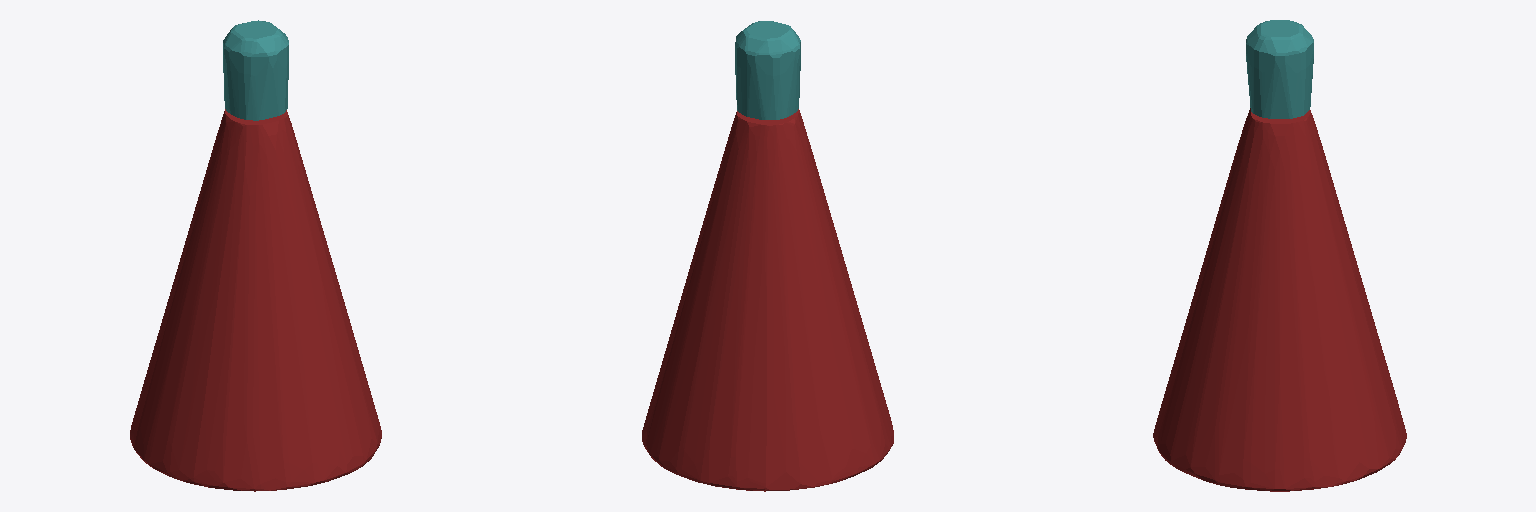
The robot description file, URDF, robot "root":
<robot name="root">
  <link name="bottle_body">
    <inertial>
      <origin xyz="0 0 0" rpy="0 0 0"/>
    </inertial>
    <mass value="1.00E-02"/>
    <visual>
      <origin xyz="0 0 0" rpy="0 0 0"/>
      <geometry>
        <mesh filename="core-bottle-2c5fd15998b6f8b996716aabcb2fff20-coacd_convex_piece_1.obj" scale="1.0000E-01 1.0000E-01 1.0000E-01"/>
      </geometry>
      <material name="">
        <color rgba="6.00E-01 2.00E-01 2.00E-01 1"/>
      </material>
    </visual>
    <collision>
      <origin xyz="0 0 0" rpy="0 0 0"/>
      <geometry>
        <mesh filename="core-bottle-2c5fd15998b6f8b996716aabcb2fff20-coacd_convex_piece_1.obj" scale="1.0000E-01 1.0000E-01 1.0000E-01"/>
      </geometry>
    </collision>
  </link>
  <link name="bottle_cap">
    <origin xyz="0 0 0.002" rpy="0 0 0"/>
    <mass value="1.00E-02"/>
    <visual>
      <origin xyz="0 0 0.002" rpy="0 0 0"/>
      <geometry>
        <mesh filename="core-bottle-2c5fd15998b6f8b996716aabcb2fff20-coacd_convex_piece_0.obj" scale="1.0000E-01 1.0000E-01 1.0000E-01"/>
      </geometry>
      <material name="">
        <color rgba="3.00E-01 6.00E-01 6.00E-01 1"/>
      </material>
    </visual>
    <collision>
      <origin xyz="0 0 0.002" rpy="0 0 0"/>
      <geometry>
        <mesh filename="core-bottle-2c5fd15998b6f8b996716aabcb2fff20-coacd_convex_piece_0.obj" scale="1.0000E-01 1.0000E-01 1.0000E-01"/>
      </geometry>
    </collision>
  </link>
  <joint name="bottle_cap_joint" type="revolute">
    <origin xyz="0 0 0" rpy="0 0 0"/>
    <parent link="bottle_body"/>
    <child link="bottle_cap"/>
    <axis xyz="0 0 1"/>
    <limit lower="0.00" upper="6.28"/>
    <dynamics damping="0.05"/>
  </joint>
</robot>

--- What the picture shows (computed from the rendered views, not written in the file) ---
The picture shows the robot from 3 angles, left to right: view 1: azimuth 30°, elevation 25°; view 2: azimuth 150°, elevation 25°; view 3: azimuth 270°, elevation 25°; orthographic projection.
Model root with 2 links and 1 joints (1 revolute), rooted at bottle_body, posed all joints at 0.
Links seen in each view (by area): view 1: bottle_body, bottle_cap; view 2: bottle_body, bottle_cap; view 3: bottle_body, bottle_cap.
Boxes of the visible links, x1,y1,x2,y2 form: bottle_body: (130,109,381,491); bottle_cap: (223,20,288,120); bottle_body: (642,109,893,491); bottle_cap: (735,21,800,119); bottle_body: (1153,108,1406,491); bottle_cap: (1246,20,1313,118).
Bounding box of the posed robot: 0.0969 × 0.0969 × 0.1734 m (x, y, z).
Meshes: 2 distinct files referenced, 2 mesh visuals loaded (2 OBJ).